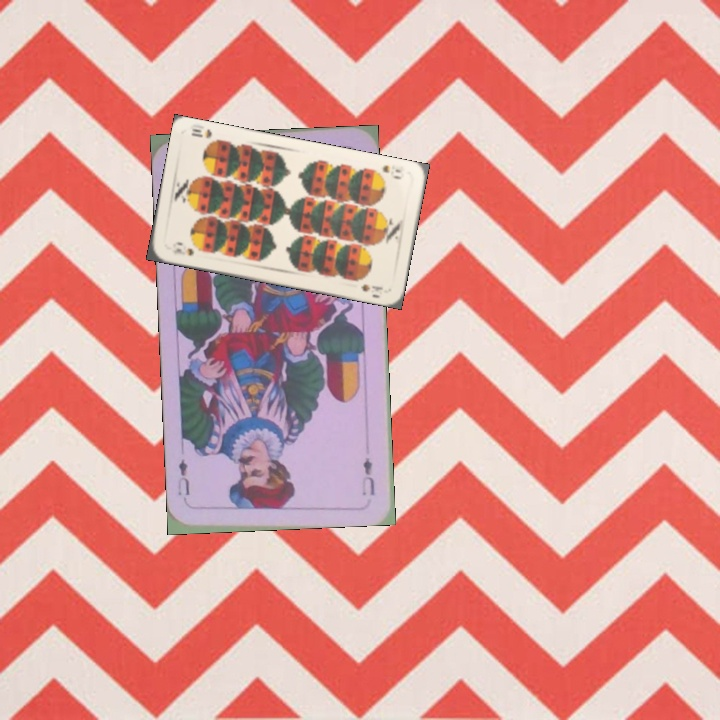EU: (358, 453, 377, 498)
S10: (378, 161, 404, 182), (168, 244, 196, 258)
